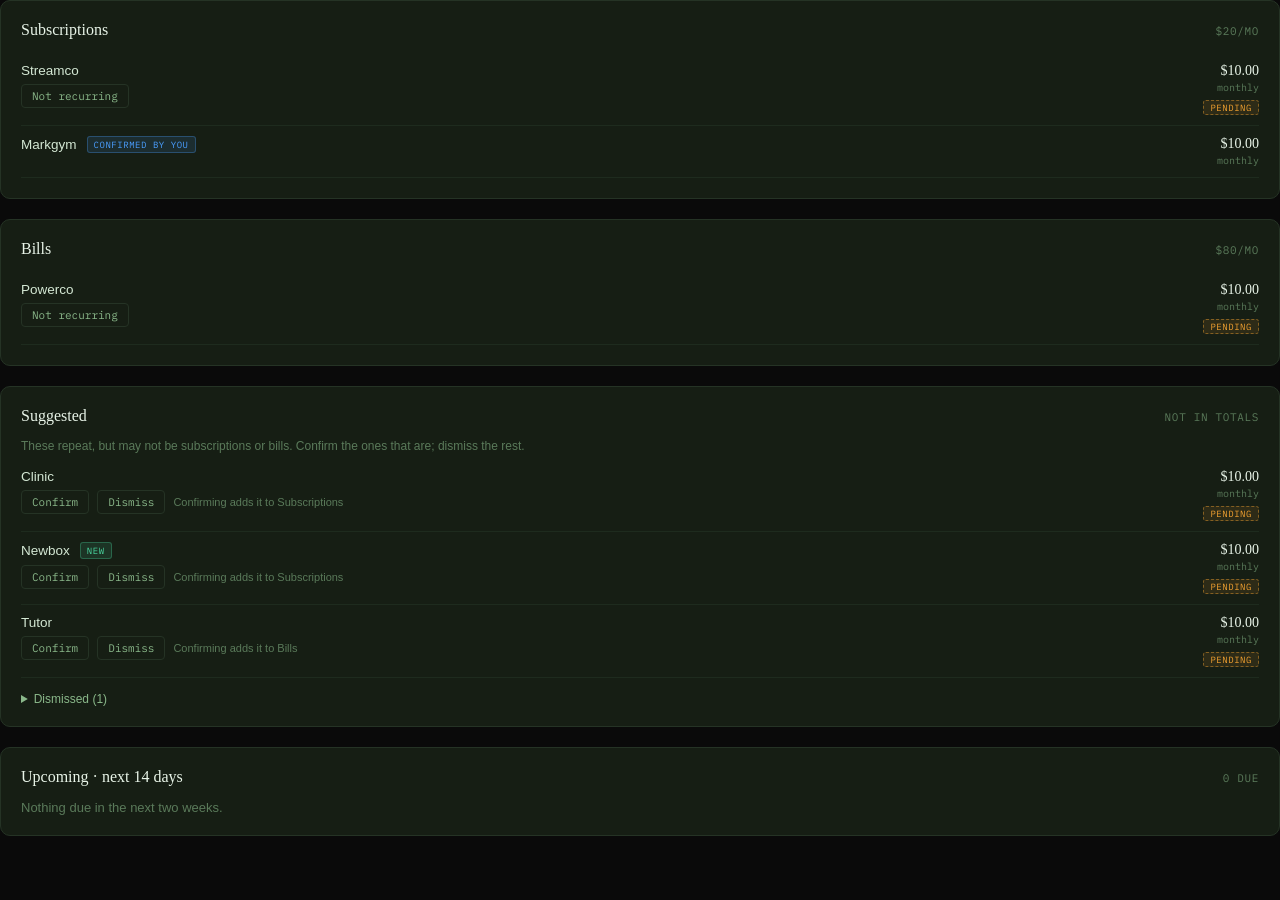
Test: SubscriptionTracker › Dismiss offers Undo, and Undo deletes that dismissal
The image size is (1280, 900).
Step 1. Click the button "Dismiss" below "Clinic" → coordinates (131, 502), box [97, 490, 165, 514]
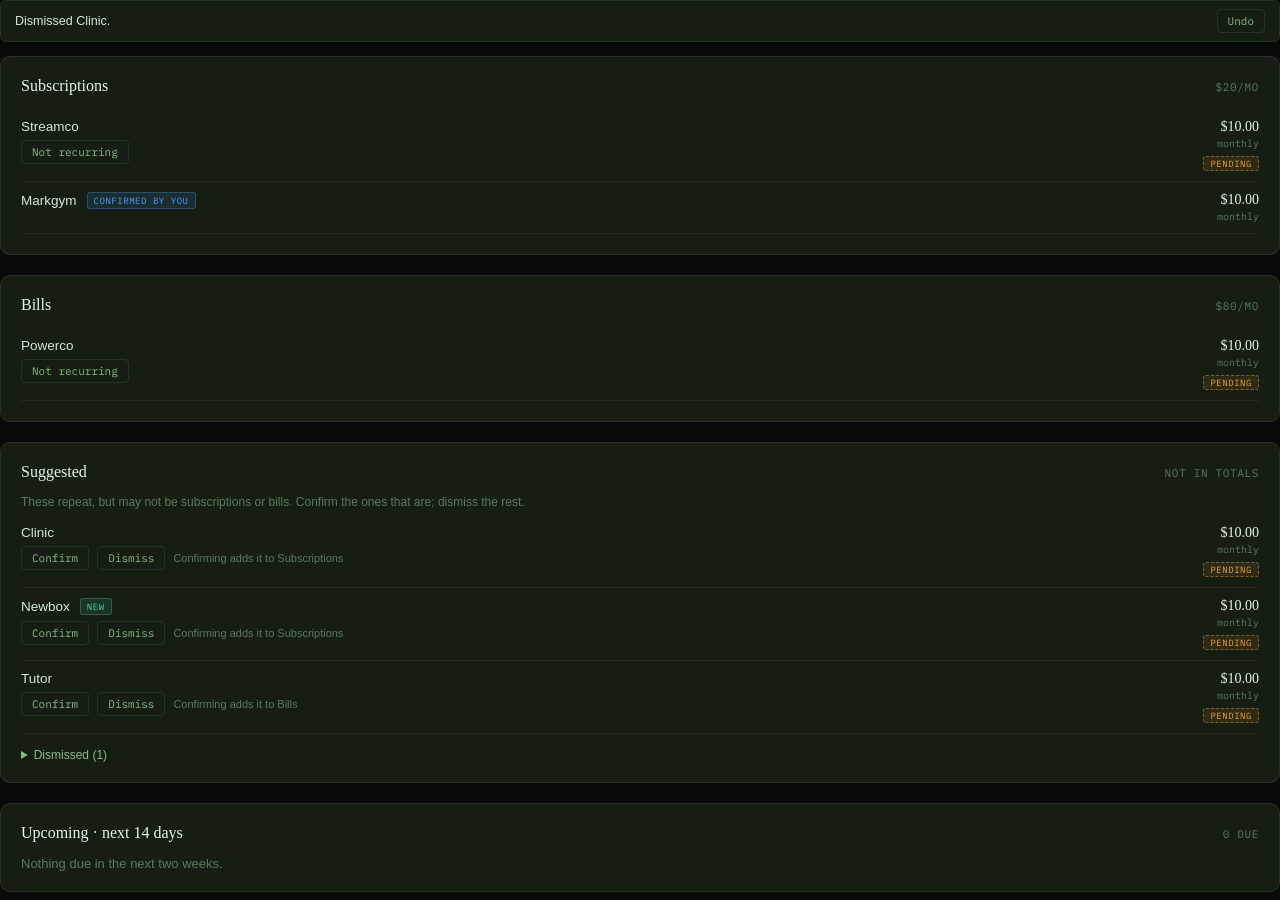
Expected: the text "Dismissed Clinic." is shown, [15, 14, 110, 28]
Step 2. Click the button "Undo" → coordinates (1241, 21), box [1217, 9, 1265, 33]
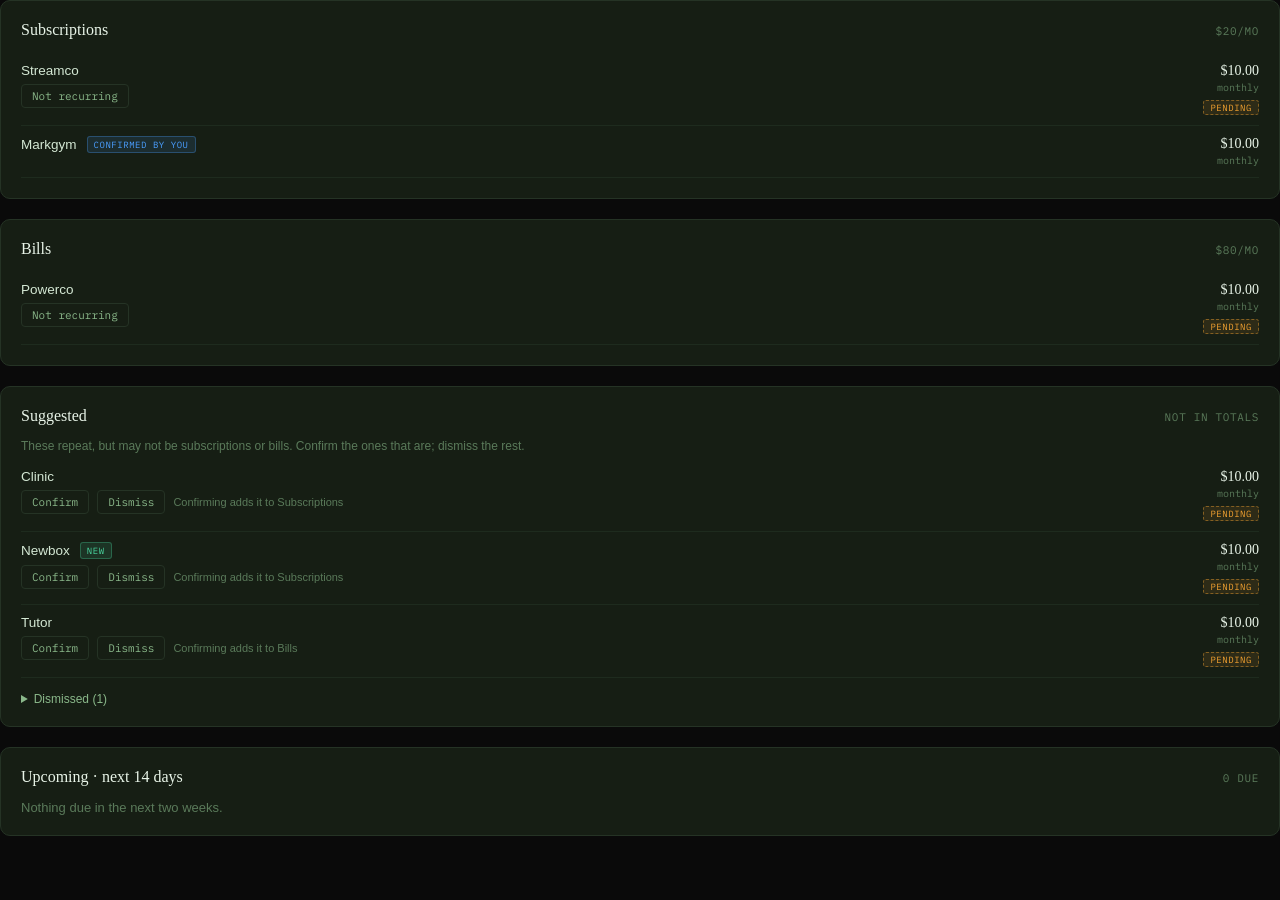
Expected: the text "Dismissed Clinic." is gone
